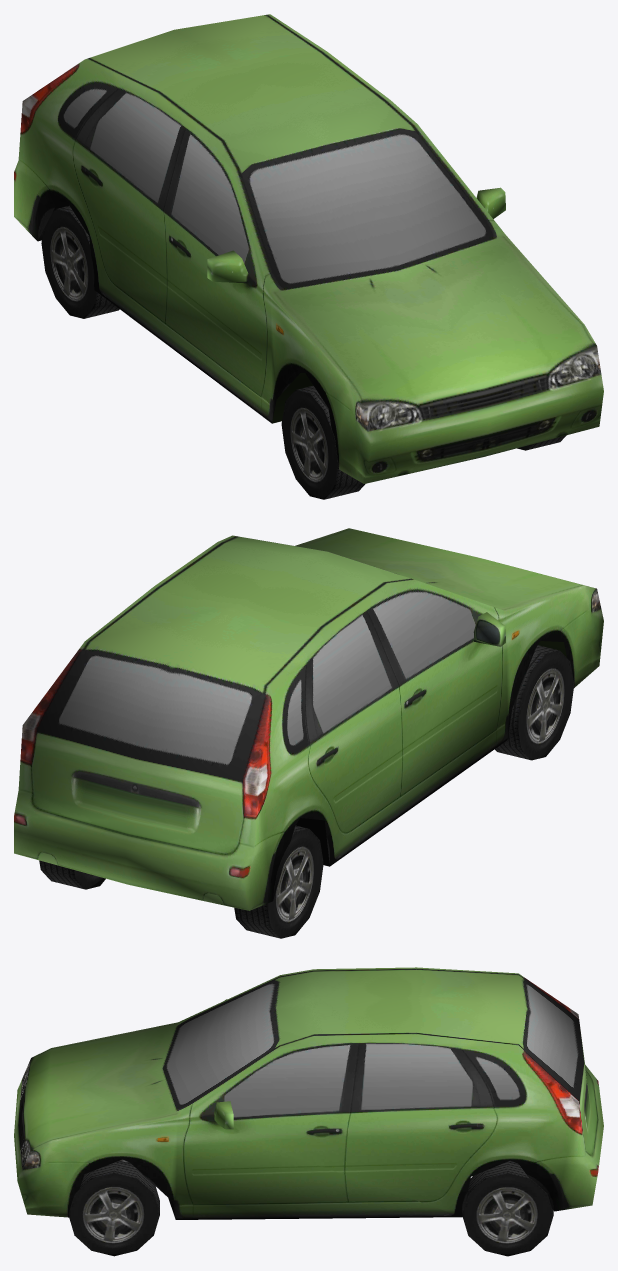
File: 12_lada_kalina.glb
The picture shows the model from 3 angles, top to bottom: view 1: azimuth 30°, elevation 25°; view 2: azimuth 150°, elevation 25°; view 3: azimuth 270°, elevation 25°; orthographic projection. The views are drawn at different scales.
Visible parts, largest first — view 1: KalinaLP_77, WheelMesh.013_74, WheelMesh.014_75; view 2: KalinaLP_77, WheelMesh.013_74, WheelMesh.014_75, WheelMesh.015_76; view 3: KalinaLP_77, WheelMesh.012_73, WheelMesh.015_76.
Part boxes in pixels (box(x1,y1,x2,y2)): KalinaLP_77: box(14, 14, 603, 483); WheelMesh.013_74: box(281, 385, 365, 499); WheelMesh.014_75: box(41, 205, 119, 318); KalinaLP_77: box(14, 528, 603, 910); WheelMesh.013_74: box(495, 645, 574, 760); WheelMesh.014_75: box(234, 825, 323, 938); WheelMesh.015_76: box(39, 860, 105, 889); KalinaLP_77: box(14, 967, 603, 1219); WheelMesh.012_73: box(68, 1160, 159, 1256); WheelMesh.015_76: box(462, 1160, 553, 1256).
Bounding box in the file's own units: 1.87 × 1.59 × 4.03.
Materials: 2 (1 with a texture image).
